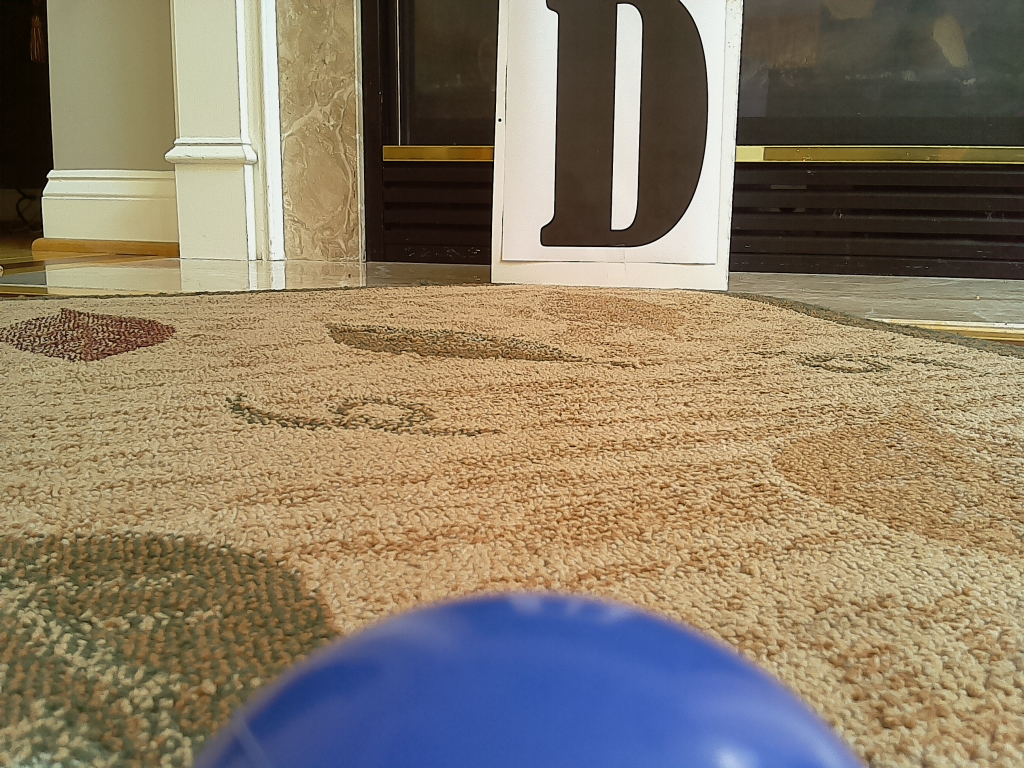letter: (546, 1, 708, 247)
